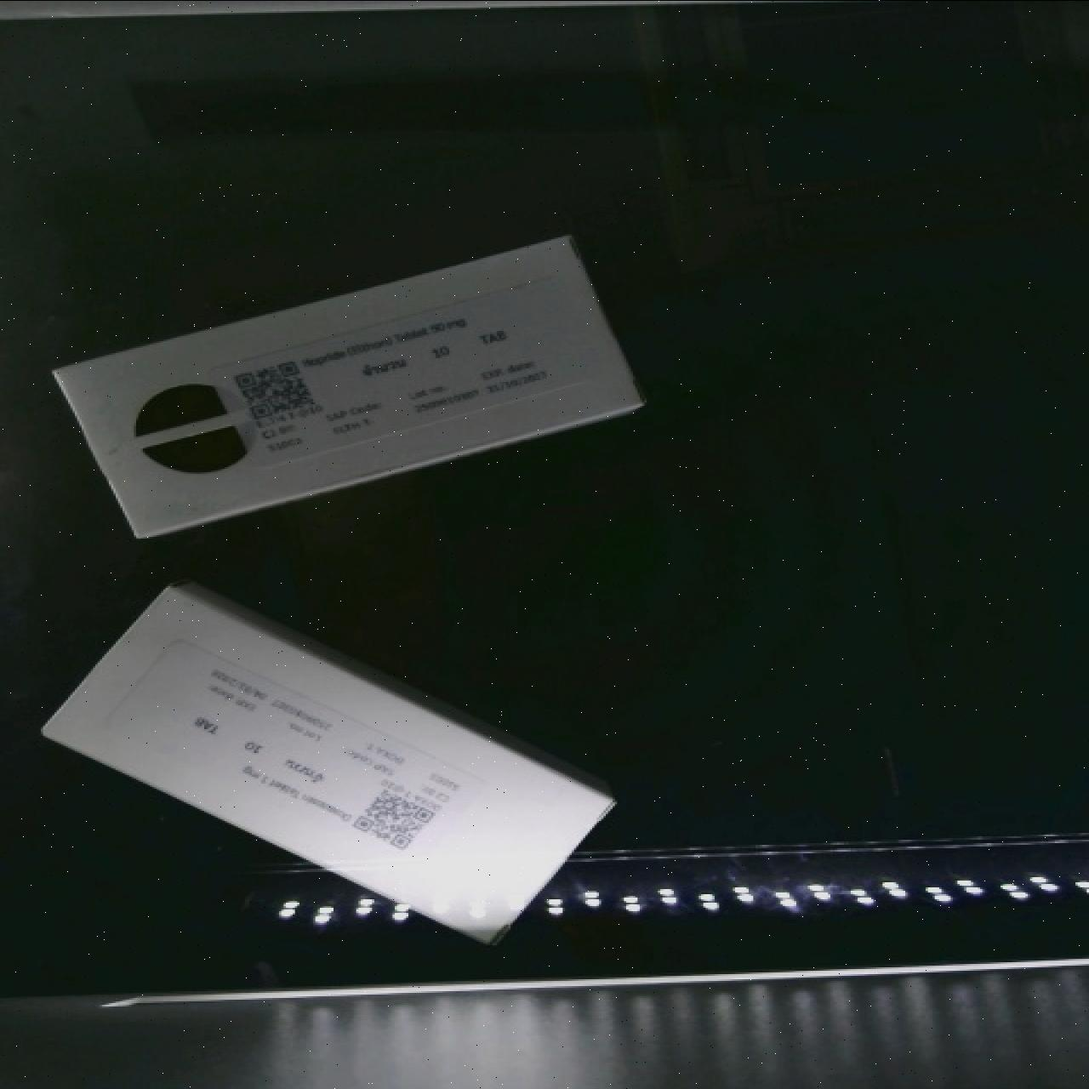qr_code: (330, 755, 466, 877), (211, 341, 338, 450)
